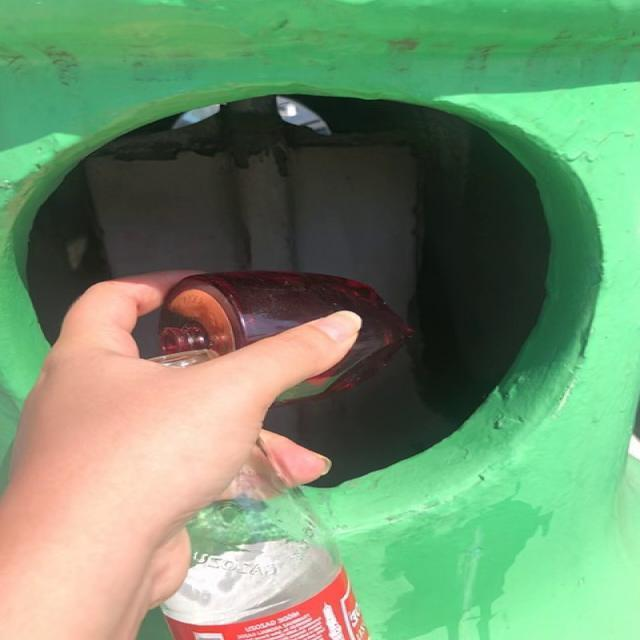Glass: (161, 433, 369, 640), (160, 272, 412, 370)
